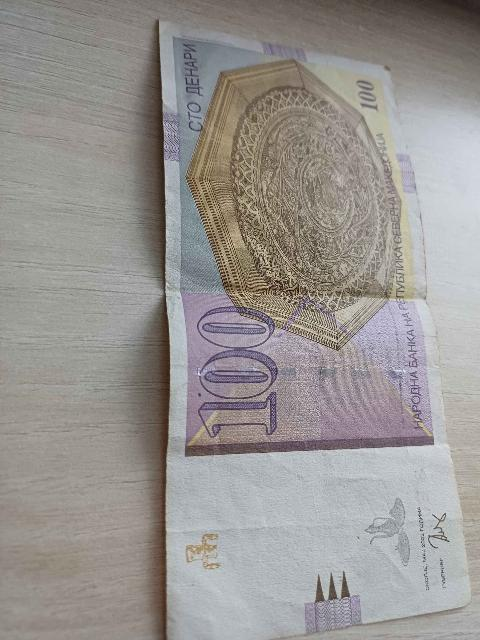note: (160, 24, 469, 639)
